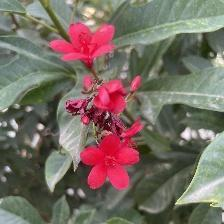jatropha: (81, 134, 142, 193), (48, 20, 119, 64)
